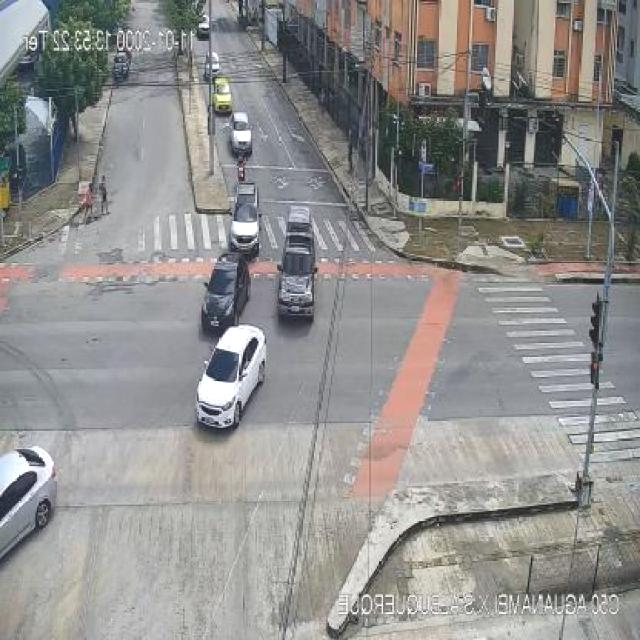Car: (195, 322, 266, 427), (0, 446, 60, 561), (200, 252, 252, 332), (278, 234, 318, 321), (229, 181, 261, 254), (284, 204, 316, 240), (230, 112, 252, 156), (212, 76, 232, 113), (203, 52, 220, 79), (113, 52, 131, 77), (197, 15, 210, 40)
